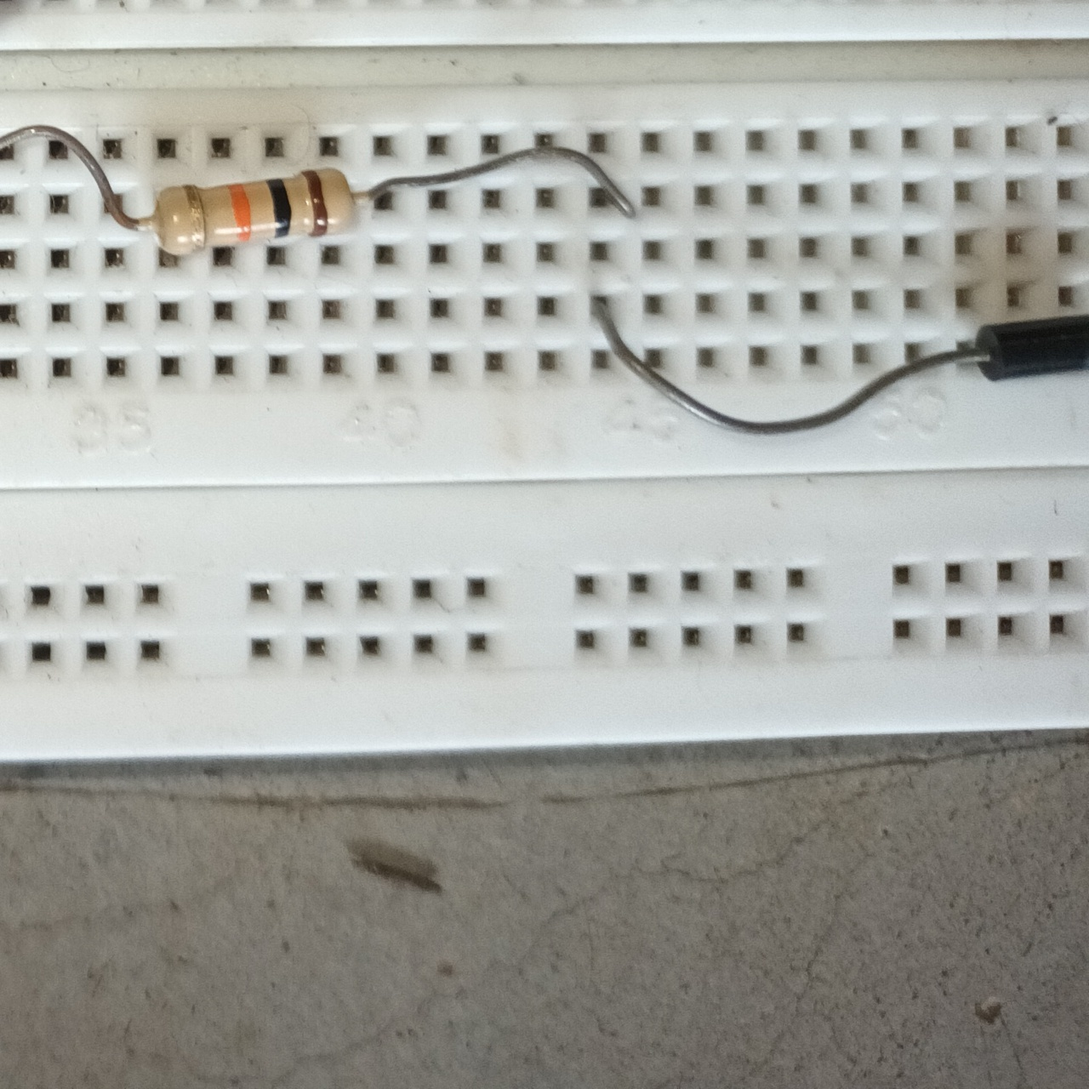resistor: (146, 166, 359, 259)
